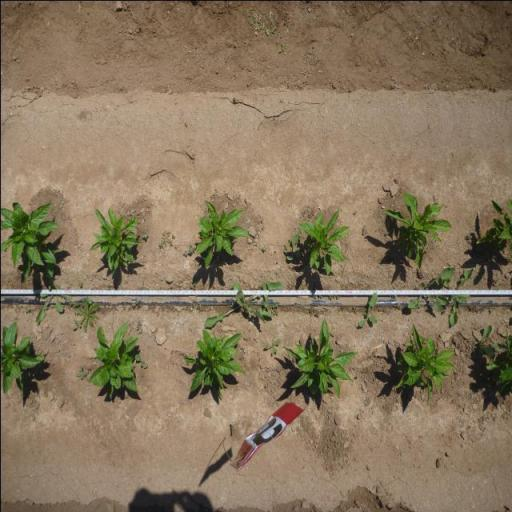plant: (284, 319, 356, 399), (391, 325, 455, 405), (0, 198, 61, 280), (388, 191, 452, 268), (179, 328, 245, 401), (194, 199, 250, 268), (88, 206, 141, 274), (300, 206, 350, 276), (88, 325, 136, 397), (0, 320, 45, 396), (475, 198, 512, 260), (483, 329, 512, 402)
weed: (203, 279, 284, 329), (406, 266, 455, 312), (442, 268, 474, 326), (34, 276, 71, 324), (472, 324, 506, 358), (70, 296, 100, 333), (357, 292, 377, 326), (286, 232, 300, 260), (157, 228, 173, 250), (264, 338, 281, 355), (134, 353, 148, 369), (190, 300, 204, 314), (309, 294, 340, 300), (74, 365, 86, 380), (307, 306, 320, 318), (130, 298, 142, 310), (182, 244, 194, 256), (187, 278, 198, 290), (270, 302, 279, 316), (468, 304, 479, 314), (136, 320, 142, 334), (22, 306, 30, 314), (282, 242, 288, 252), (141, 231, 148, 239), (394, 302, 401, 310), (257, 245, 266, 251), (490, 278, 497, 285), (487, 306, 494, 312), (388, 294, 397, 298), (466, 232, 472, 238), (76, 280, 82, 286), (184, 303, 188, 311), (352, 306, 356, 314), (298, 230, 301, 240), (384, 230, 389, 235), (340, 286, 346, 290), (340, 305, 344, 311), (14, 314, 17, 320), (378, 307, 380, 311)
